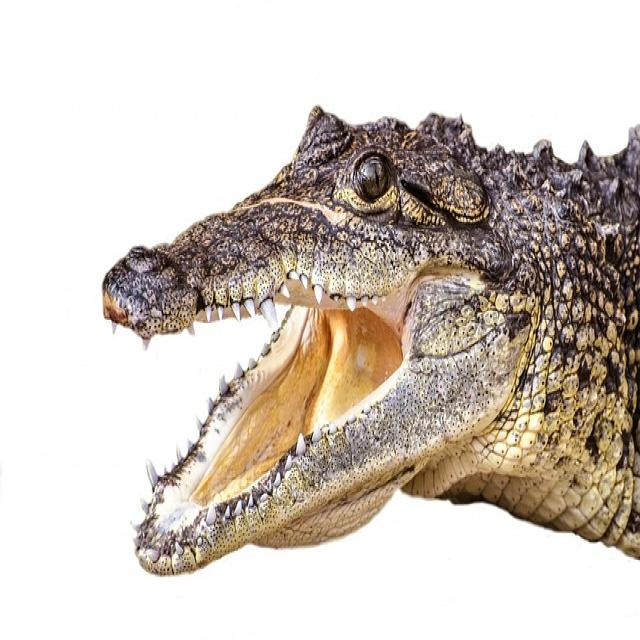Carnivorous: (102, 107, 640, 578)
